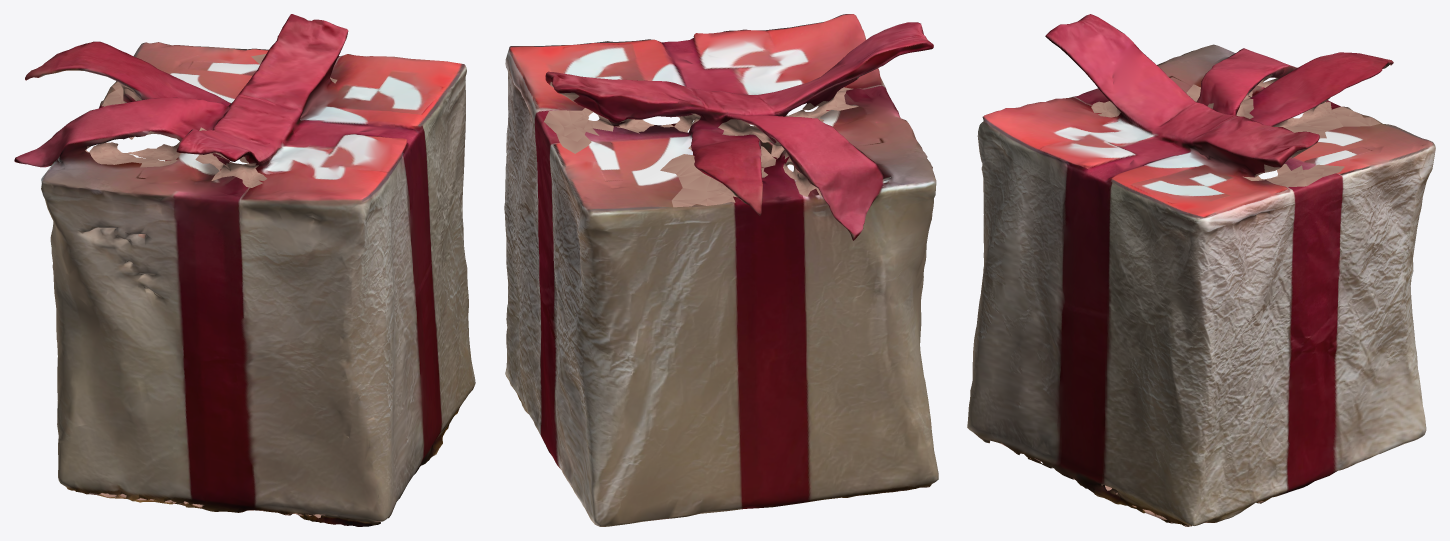
File: yan.glb
The picture shows the model from 3 angles, left to right: view 1: azimuth 30°, elevation 25°; view 2: azimuth 150°, elevation 25°; view 3: azimuth 270°, elevation 25°; orthographic projection. The views are drawn at different scales.
Size of the model in its own units: 2.69 by 2.29 by 2.69.
Materials: 2 (2 with a texture image).
